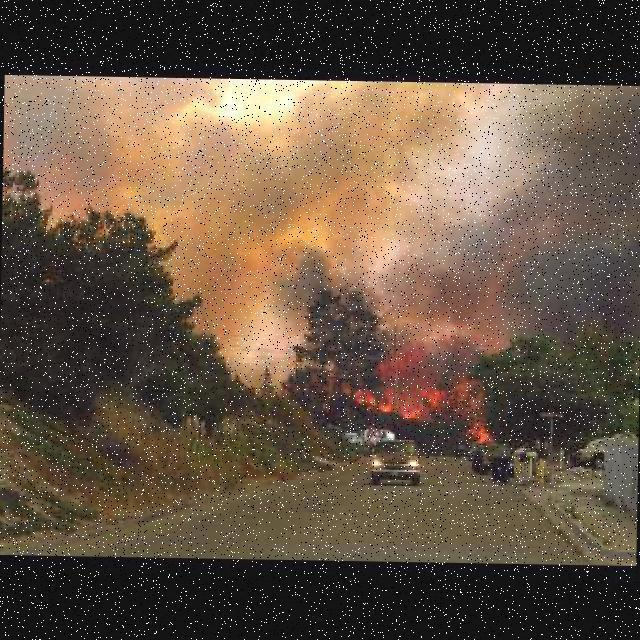Fire: (318, 342, 496, 442)
Smoke: (484, 82, 640, 354), (361, 213, 492, 381), (256, 222, 346, 334)
